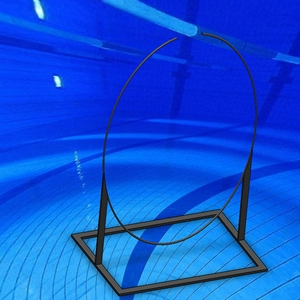circle: (71, 31, 269, 297)
